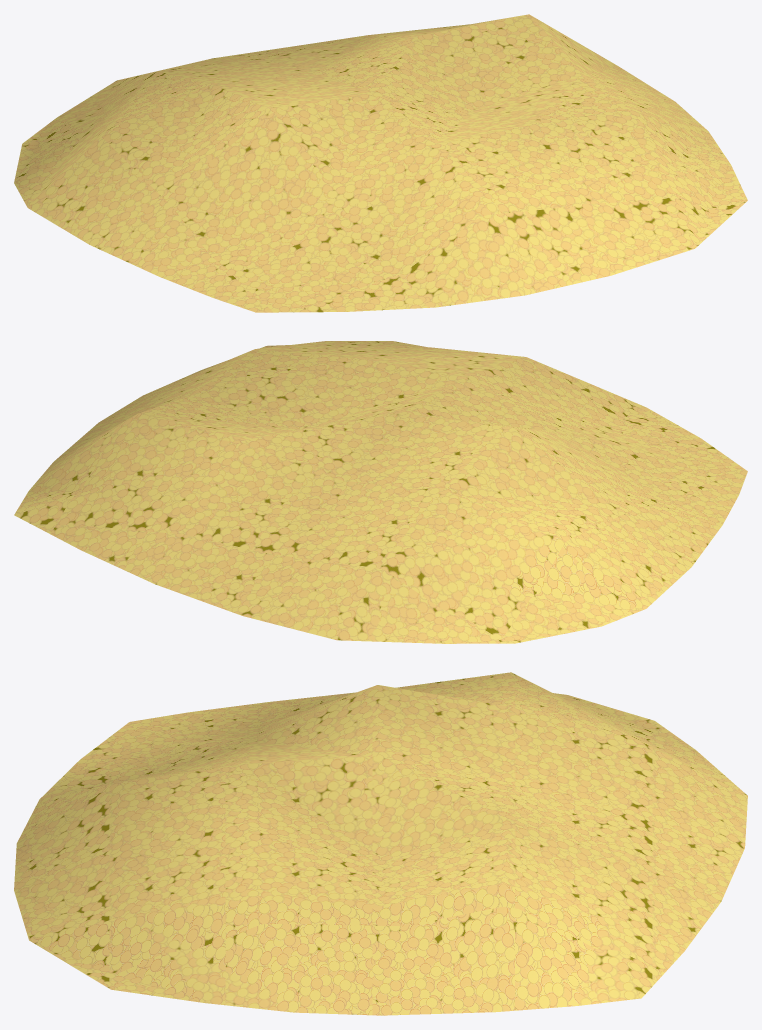
Rendered from gold_pile_2.fbx.
The picture shows the model from 3 angles, top to bottom: view 1: azimuth 30°, elevation 25°; view 2: azimuth 150°, elevation 25°; view 3: azimuth 270°, elevation 25°; orthographic projection. The views are drawn at different scales.
Visible parts, largest first — view 1: gold_pile_2; view 2: gold_pile_2; view 3: gold_pile_2.
Part boxes in pixels (x1,y1,x2,y2): gold_pile_2: [14, 14, 747, 312]; gold_pile_2: [14, 341, 747, 643]; gold_pile_2: [14, 672, 747, 1015].
Size of the model in its own units: 72.17 by 10.8 by 68.02.
1 material, 1 textured.
